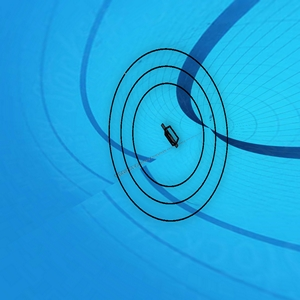circle: (107, 47, 231, 225)
submarine: (159, 122, 179, 147)
